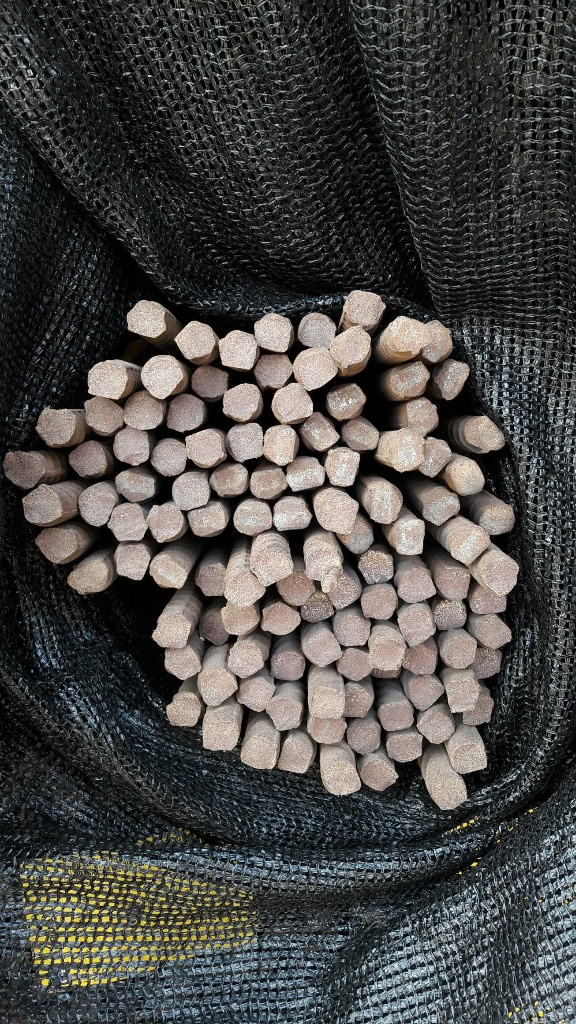dipstick: (141, 355, 184, 400), (293, 348, 337, 390), (449, 525, 490, 565), (87, 361, 128, 400), (272, 382, 313, 421), (219, 330, 258, 370), (22, 485, 62, 524), (174, 320, 215, 358), (390, 429, 426, 472), (365, 483, 402, 524), (252, 550, 294, 586), (126, 300, 166, 337), (124, 392, 164, 429), (254, 313, 291, 353), (389, 361, 430, 397), (332, 326, 370, 364), (3, 451, 42, 488), (108, 503, 147, 540), (198, 668, 237, 705), (305, 627, 342, 666), (233, 499, 272, 536), (35, 408, 75, 444), (79, 486, 115, 526), (391, 316, 431, 352), (433, 360, 469, 400), (224, 571, 265, 606), (223, 383, 260, 421), (113, 427, 150, 465), (321, 497, 359, 534), (298, 312, 336, 349), (302, 412, 339, 450), (85, 396, 124, 432), (345, 290, 384, 326), (185, 428, 222, 465), (69, 440, 106, 477), (166, 394, 204, 430), (151, 437, 187, 475), (148, 504, 184, 542), (172, 471, 208, 509), (150, 553, 189, 588), (188, 501, 227, 536), (325, 447, 360, 486), (398, 568, 437, 603), (38, 528, 78, 562), (276, 572, 316, 606), (203, 713, 239, 750), (286, 455, 324, 490), (229, 422, 263, 461), (419, 436, 451, 477), (324, 760, 361, 795), (328, 384, 365, 419), (264, 425, 298, 463), (152, 615, 191, 648), (262, 602, 301, 635), (250, 465, 287, 499), (422, 492, 459, 526), (254, 354, 292, 387), (166, 692, 201, 727), (229, 643, 264, 678), (116, 543, 150, 579), (358, 550, 394, 584), (399, 613, 436, 646), (485, 559, 518, 596), (469, 417, 506, 450), (406, 398, 439, 435), (67, 563, 109, 592), (221, 604, 259, 636), (115, 471, 155, 501), (241, 677, 275, 712), (278, 739, 313, 773), (441, 635, 476, 669), (165, 646, 201, 679), (191, 365, 228, 397), (361, 759, 398, 791), (273, 499, 311, 530), (451, 459, 485, 493), (343, 417, 378, 450), (391, 519, 424, 554), (409, 677, 444, 710), (240, 737, 276, 769), (329, 572, 361, 608), (476, 615, 512, 647), (210, 464, 247, 495), (417, 713, 454, 744), (266, 698, 301, 730), (361, 588, 397, 619), (433, 777, 467, 809), (335, 614, 370, 645), (199, 609, 228, 646), (309, 716, 347, 744), (348, 720, 380, 753), (371, 638, 404, 670), (380, 700, 414, 731), (452, 743, 486, 774), (305, 550, 341, 579), (386, 733, 422, 762), (426, 320, 451, 361), (447, 681, 479, 713), (311, 687, 344, 718), (340, 648, 371, 681), (437, 568, 470, 599), (471, 586, 507, 614), (302, 592, 334, 622), (434, 600, 467, 629), (271, 652, 305, 680), (480, 507, 514, 535), (197, 563, 225, 596), (344, 683, 372, 716), (403, 647, 436, 675), (463, 694, 493, 724), (345, 523, 374, 553), (475, 647, 502, 679)
